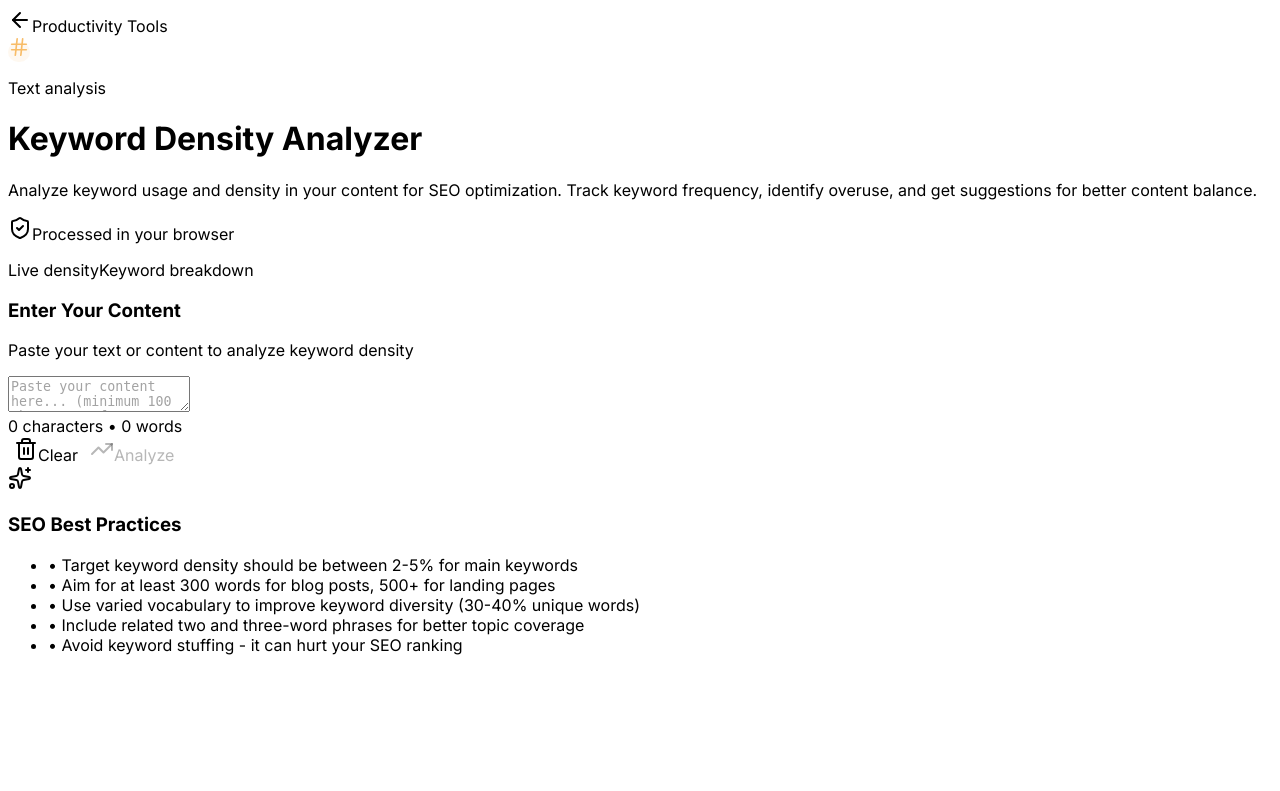
Scenario: Keyword Density Analyzer Page › Keyword Analysis › calculates keyword density correctly
Replace the text in the text box with placeholder "Paste your content here" with "test word test word test word word word word word": (99, 394) [8,376,190,412]
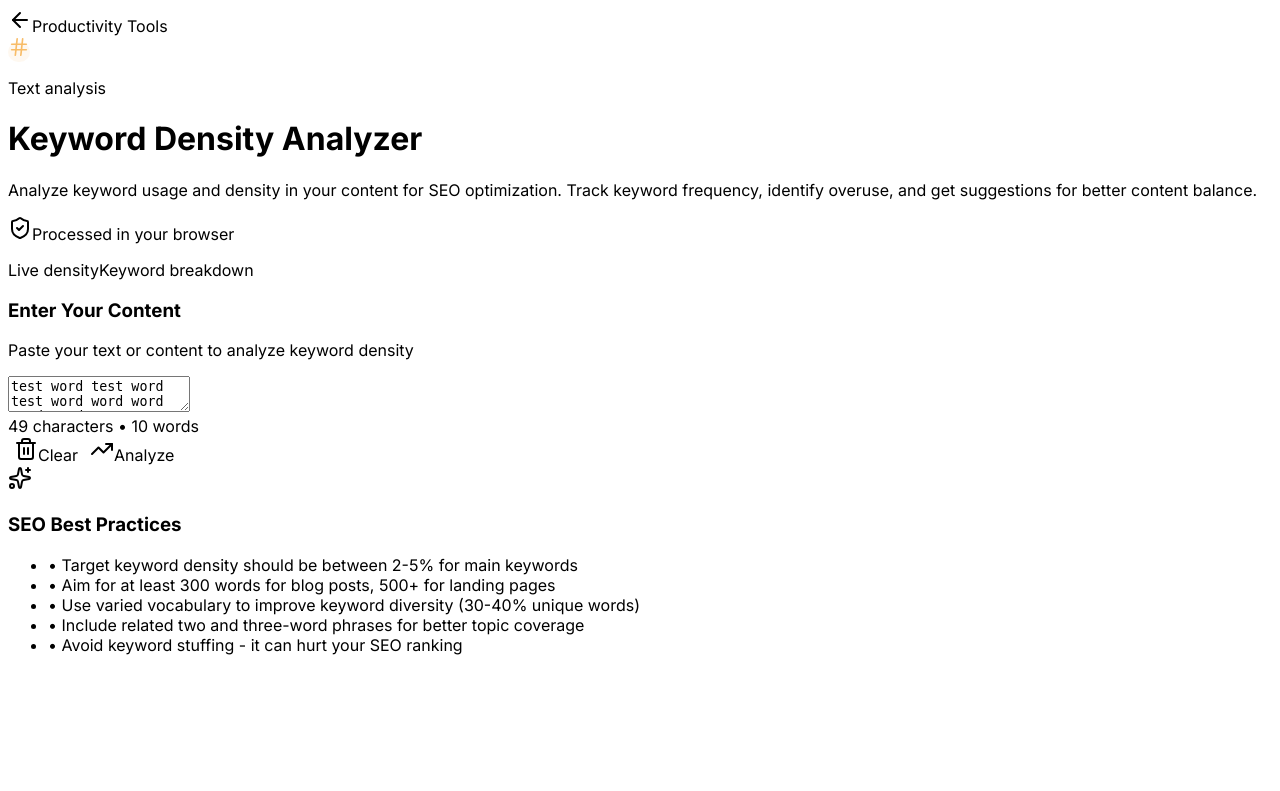
Click the button "Analyze": (132, 451) [84,436,180,466]
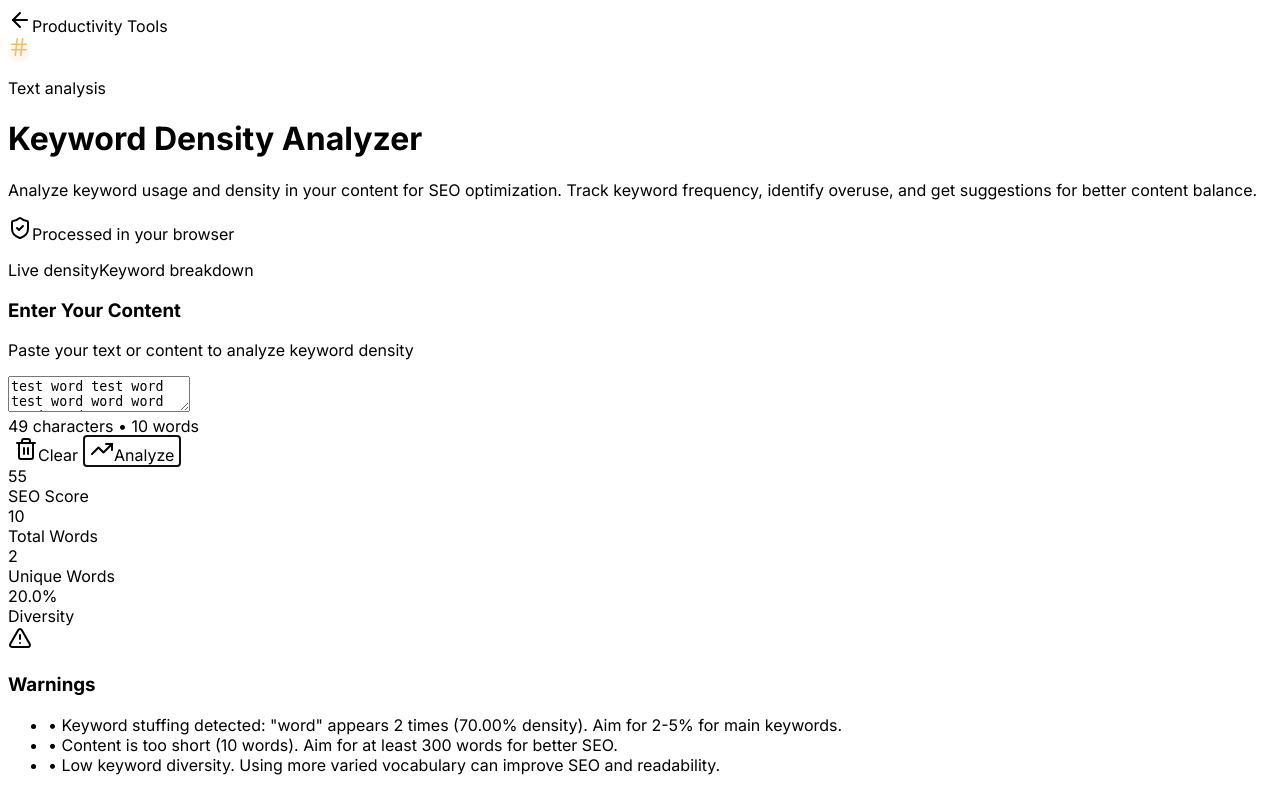
Now the text "10" is shown, box [8,506,25,526]
